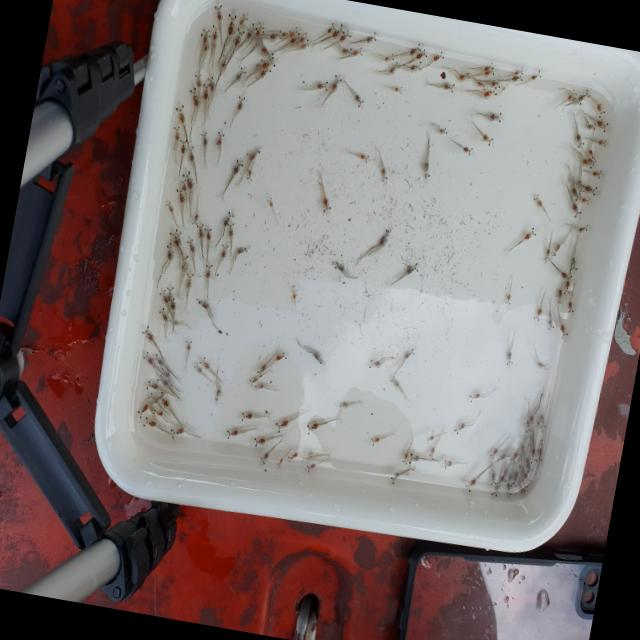babyshrimp: (373, 227, 390, 250), (225, 7, 236, 38), (140, 324, 155, 345), (255, 56, 274, 72), (181, 168, 193, 192), (174, 99, 185, 125), (464, 473, 479, 492), (328, 22, 344, 39), (169, 423, 186, 439), (230, 27, 244, 46), (155, 391, 169, 410), (328, 73, 341, 93), (188, 82, 198, 108), (351, 90, 363, 110), (246, 145, 261, 161), (274, 417, 290, 432), (231, 66, 245, 83), (311, 348, 325, 365), (221, 208, 234, 226), (135, 401, 148, 419), (168, 229, 180, 248), (402, 262, 417, 277), (258, 46, 273, 61), (256, 65, 272, 79), (209, 24, 219, 46), (174, 185, 185, 205), (157, 304, 168, 324), (244, 22, 256, 40), (230, 158, 242, 176), (412, 47, 427, 61), (485, 112, 504, 123), (257, 449, 270, 465), (141, 350, 154, 366), (362, 31, 379, 43), (521, 227, 535, 241), (594, 118, 608, 132), (575, 89, 589, 103), (481, 86, 496, 99), (305, 420, 318, 435), (198, 355, 210, 371), (144, 379, 160, 391), (557, 320, 567, 339), (157, 286, 167, 305), (184, 271, 193, 292), (558, 269, 571, 283), (480, 132, 493, 146), (337, 29, 350, 43), (570, 201, 580, 219), (224, 427, 239, 439), (355, 151, 370, 163), (200, 82, 210, 100), (178, 137, 187, 157), (503, 347, 511, 369), (573, 132, 584, 148), (218, 243, 227, 262), (321, 196, 330, 215), (570, 184, 580, 201), (594, 101, 604, 118), (509, 470, 519, 487), (583, 184, 596, 197), (402, 346, 415, 359), (385, 62, 398, 75), (408, 41, 420, 55), (452, 421, 464, 435), (387, 470, 399, 484), (213, 2, 221, 23), (194, 297, 208, 309), (213, 380, 220, 404), (236, 11, 247, 26), (192, 361, 203, 376), (206, 76, 215, 94), (198, 131, 207, 149), (215, 128, 224, 146), (195, 223, 204, 241), (484, 78, 500, 88), (253, 20, 263, 36), (179, 255, 187, 275), (431, 50, 443, 63), (153, 352, 165, 365), (565, 87, 576, 101), (404, 452, 418, 463), (141, 416, 155, 427), (185, 237, 194, 254), (166, 294, 175, 311), (379, 167, 387, 186), (171, 124, 179, 143), (234, 245, 249, 255), (165, 241, 172, 262), (550, 242, 559, 258), (532, 305, 541, 321), (528, 69, 540, 81), (288, 31, 300, 43), (200, 28, 208, 46), (225, 222, 233, 240), (203, 224, 211, 242), (408, 60, 421, 71), (580, 156, 591, 169), (388, 375, 399, 388), (252, 436, 265, 447), (324, 21, 335, 34), (333, 260, 344, 273), (532, 194, 542, 208), (313, 81, 327, 91), (164, 200, 173, 215), (482, 66, 494, 77), (475, 79, 486, 91), (349, 46, 361, 57), (297, 38, 308, 50), (441, 83, 454, 93), (239, 411, 252, 421), (576, 224, 590, 233), (569, 253, 576, 271), (382, 52, 393, 63), (304, 462, 315, 473), (286, 451, 297, 462), (296, 31, 307, 42), (287, 25, 298, 36), (274, 350, 285, 361), (510, 72, 522, 82), (265, 31, 277, 41), (236, 95, 244, 110), (542, 244, 549, 261), (193, 73, 200, 90), (488, 447, 497, 460), (498, 469, 507, 482), (367, 359, 380, 368), (509, 449, 517, 463), (427, 445, 434, 461), (204, 263, 211, 279), (511, 66, 522, 76), (392, 85, 402, 96), (440, 459, 451, 469), (370, 435, 380, 446), (252, 382, 263, 392), (457, 71, 469, 80), (546, 315, 553, 330), (503, 290, 510, 305), (488, 470, 495, 485), (555, 289, 561, 306), (536, 360, 546, 370), (482, 61, 492, 71), (590, 169, 601, 178), (595, 138, 606, 147), (467, 393, 478, 402), (424, 433, 433, 444), (184, 340, 191, 354), (245, 166, 251, 182), (490, 484, 497, 497), (566, 299, 572, 314), (524, 418, 530, 433), (586, 156, 595, 166), (151, 408, 162, 416), (576, 179, 581, 196), (291, 288, 296, 305), (400, 452, 407, 464), (275, 456, 282, 468), (266, 196, 272, 209), (587, 148, 594, 159), (166, 286, 173, 297), (580, 196, 589, 204), (586, 122, 595, 130), (190, 213, 196, 225), (495, 473, 500, 487), (501, 82, 508, 91), (338, 401, 347, 408), (306, 449, 313, 457)
